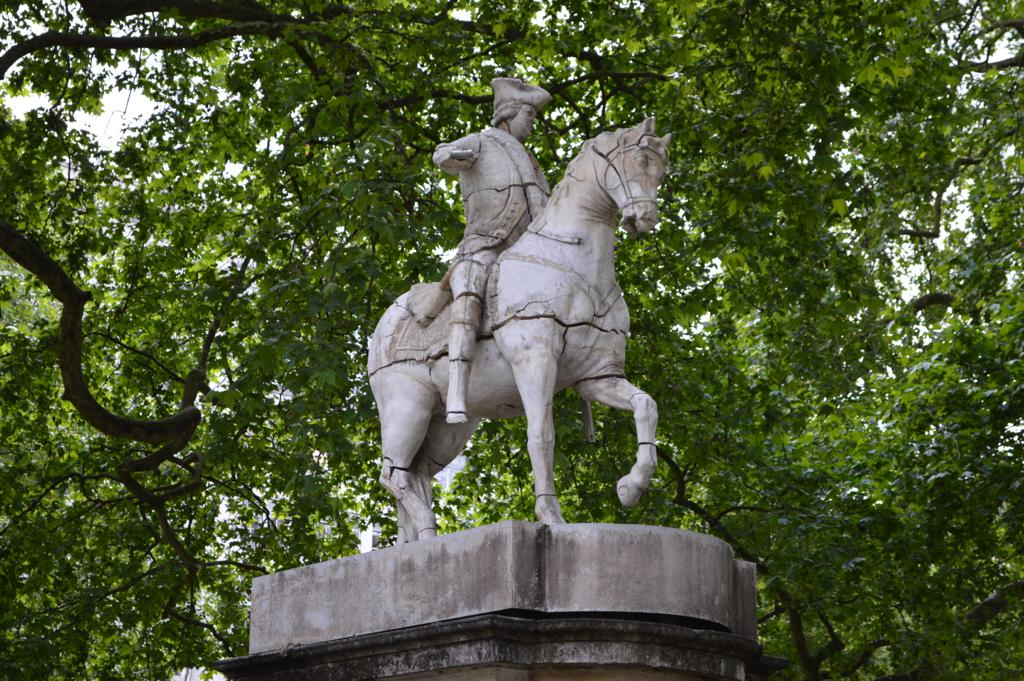Tree: (0, 0, 1022, 680)
